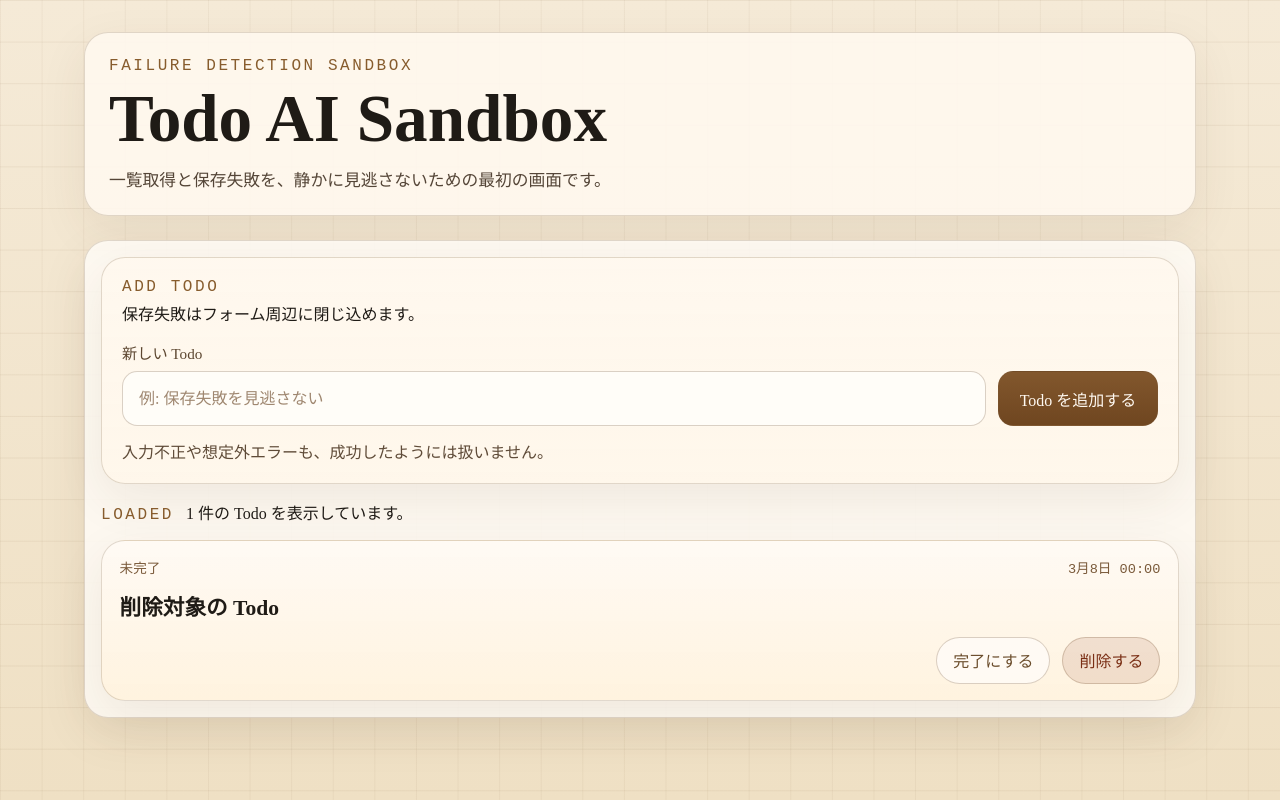
App › 削除ボタンを押すと確認ダイアログが開き、キャンセルで閉じる
Expected: the heading "削除対象の Todo" is shown, [120,596,279,620]
Click the button "削除する" at (1111, 660), box [1062,637,1160,684]
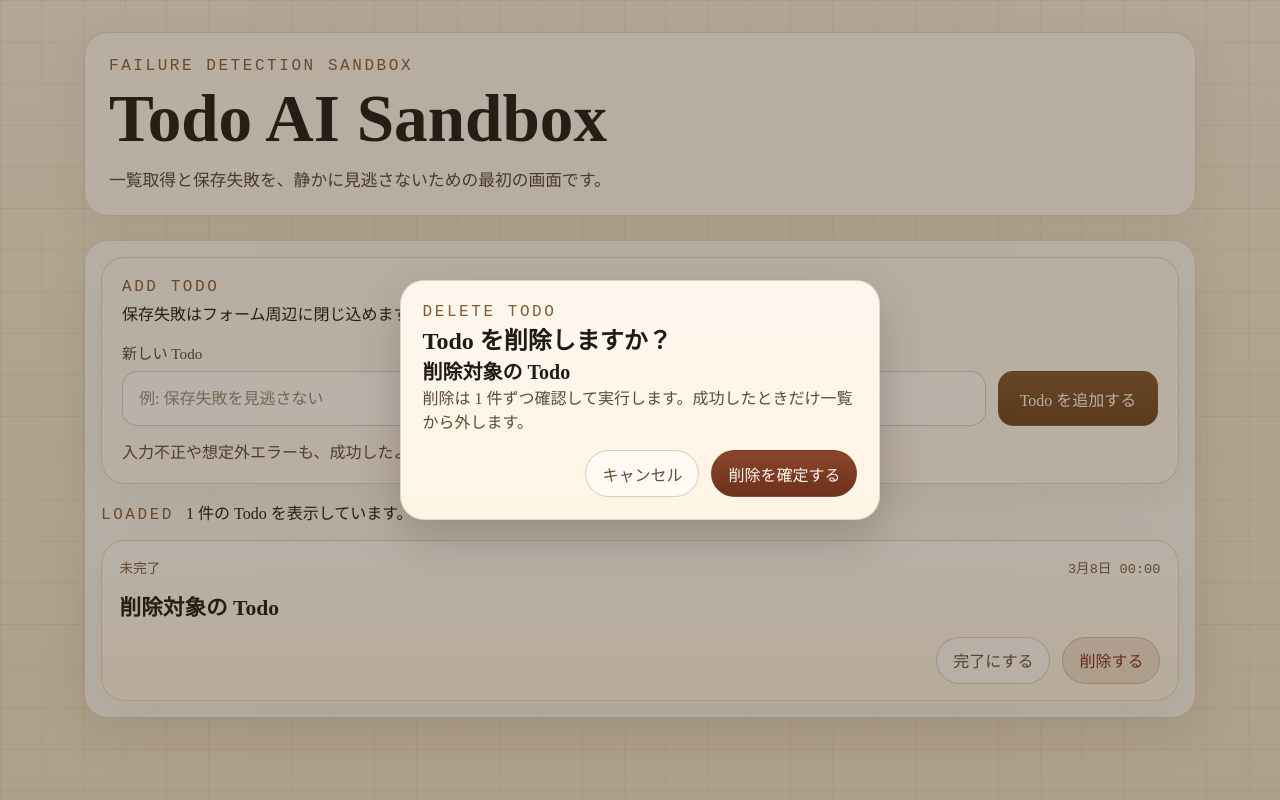
Expected: the heading "Todo を削除しますか？" is shown, [423,328,672,354]
Expected: the text "削除対象の Todo" is shown, [423,361,570,383]
Click the button "キャンセル" at (642, 474), box [585,450,699,497]
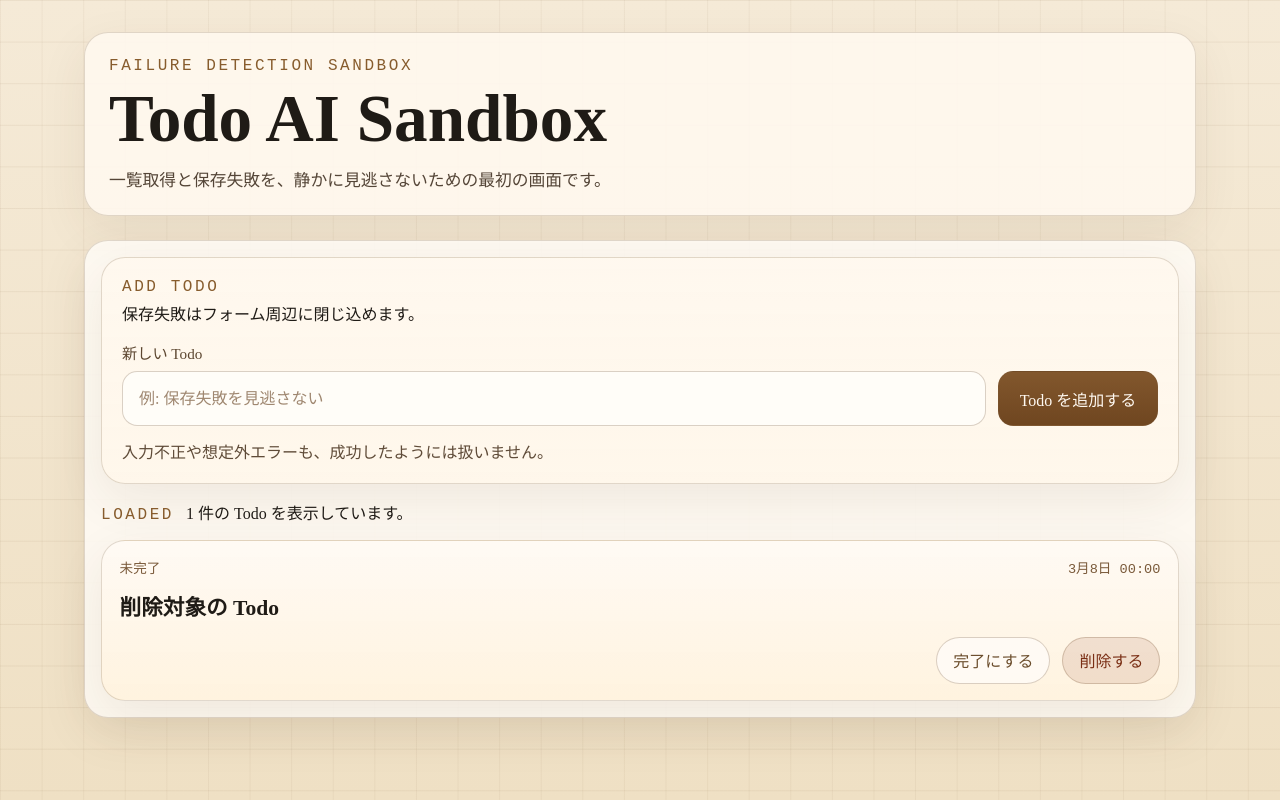
Expected: the heading "Todo を削除しますか？" is gone
